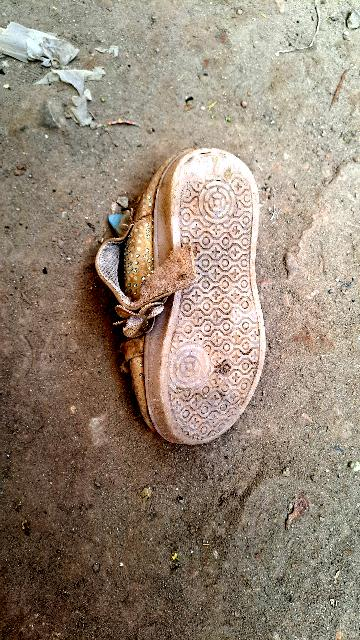sandal: (129, 151, 271, 459)
